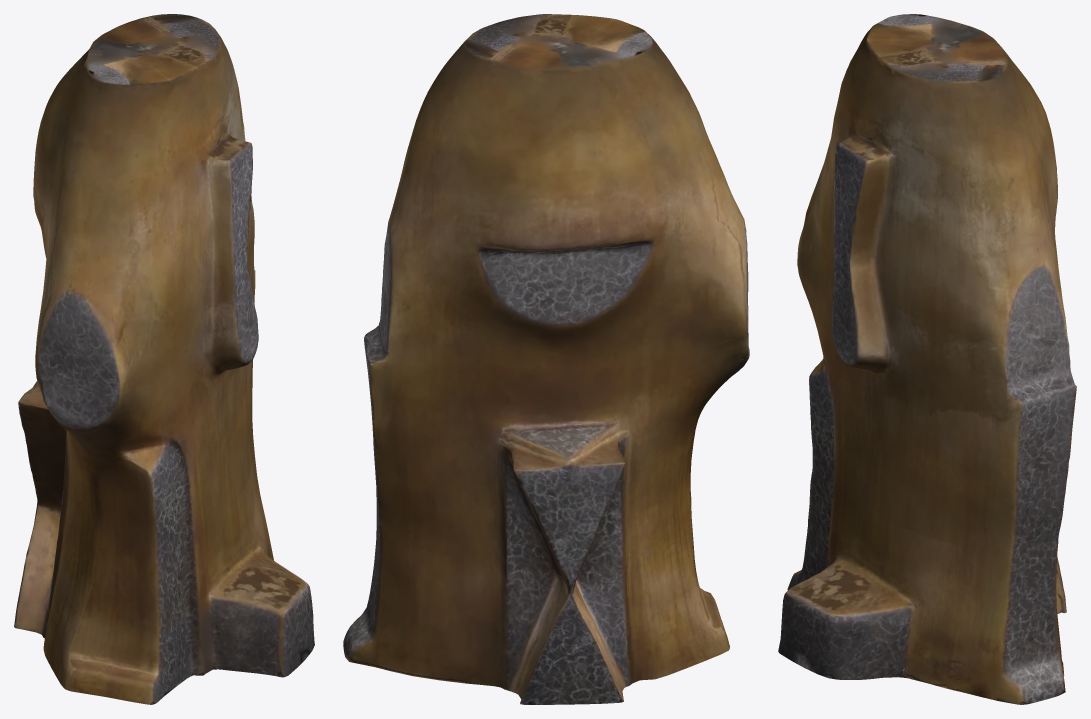
File: shah-tirthankar.glb
3 views of the same model, side by side, from view 1: azimuth 30°, elevation 25°; view 2: azimuth 150°, elevation 25°; view 3: azimuth 270°, elevation 25° (orthographic). The views are drawn at different scales.
Parts seen in each view (by area): view 1: SculptureA_Low; view 2: SculptureA_Low; view 3: SculptureA_Low.
Part boxes in pixels (box(x1,y1,x2,y2)): SculptureA_Low: box(14, 14, 314, 704); SculptureA_Low: box(343, 14, 749, 704); SculptureA_Low: box(778, 14, 1076, 704).
Bounding box in the file's own units: 21.35 × 38.18 × 17.91.
1 material, 1 textured.
